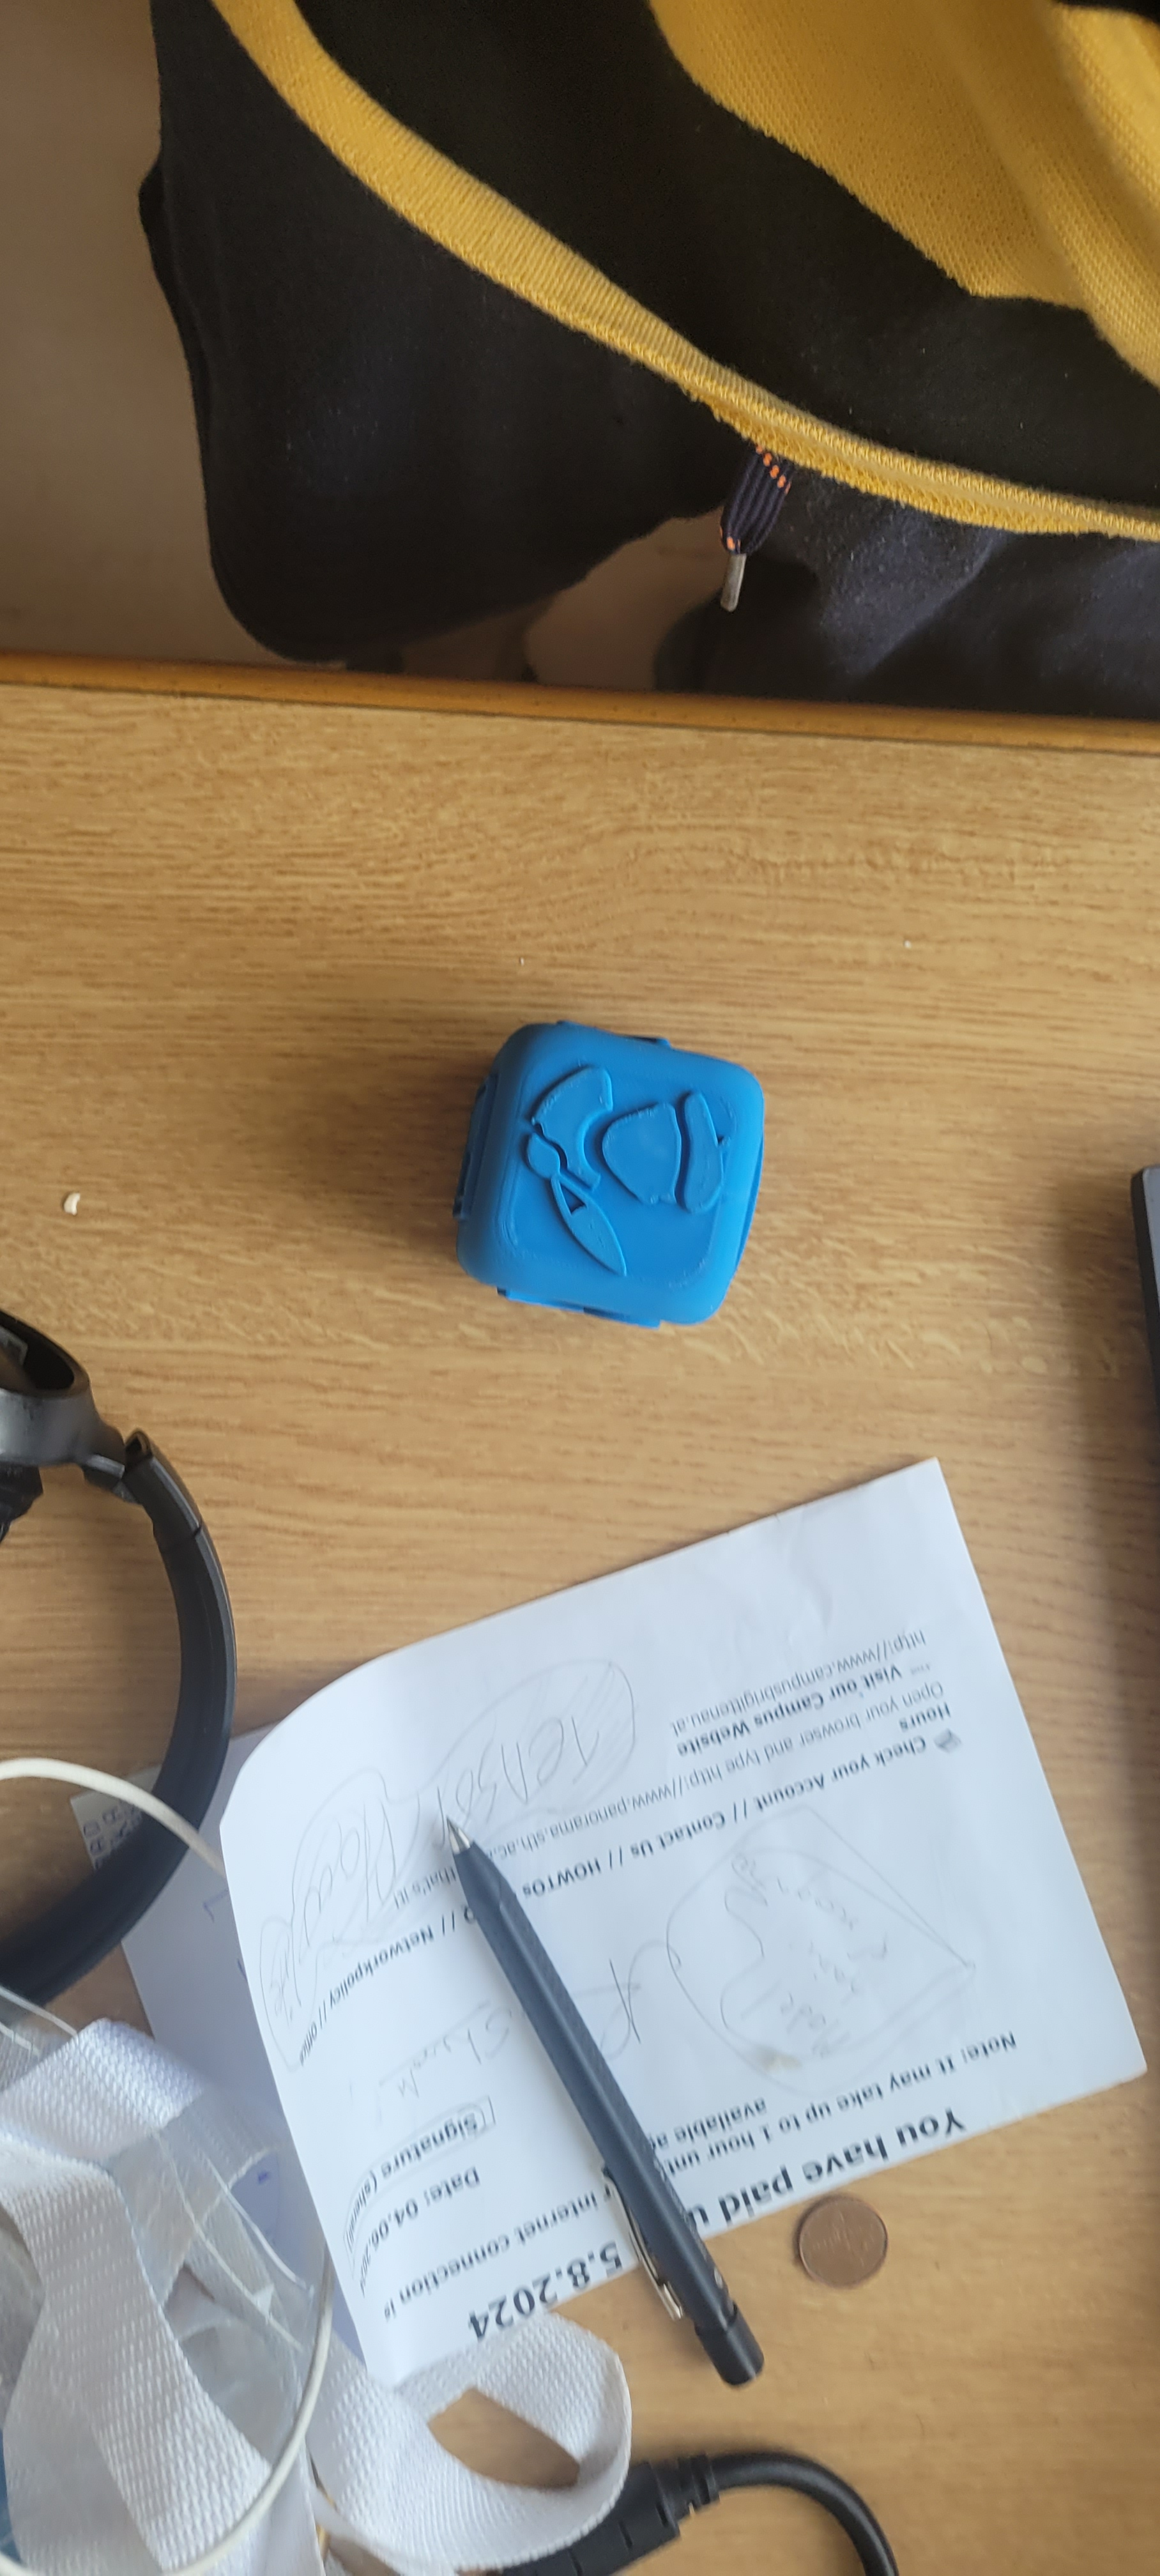Artist_Info: (513, 973, 771, 1318)
